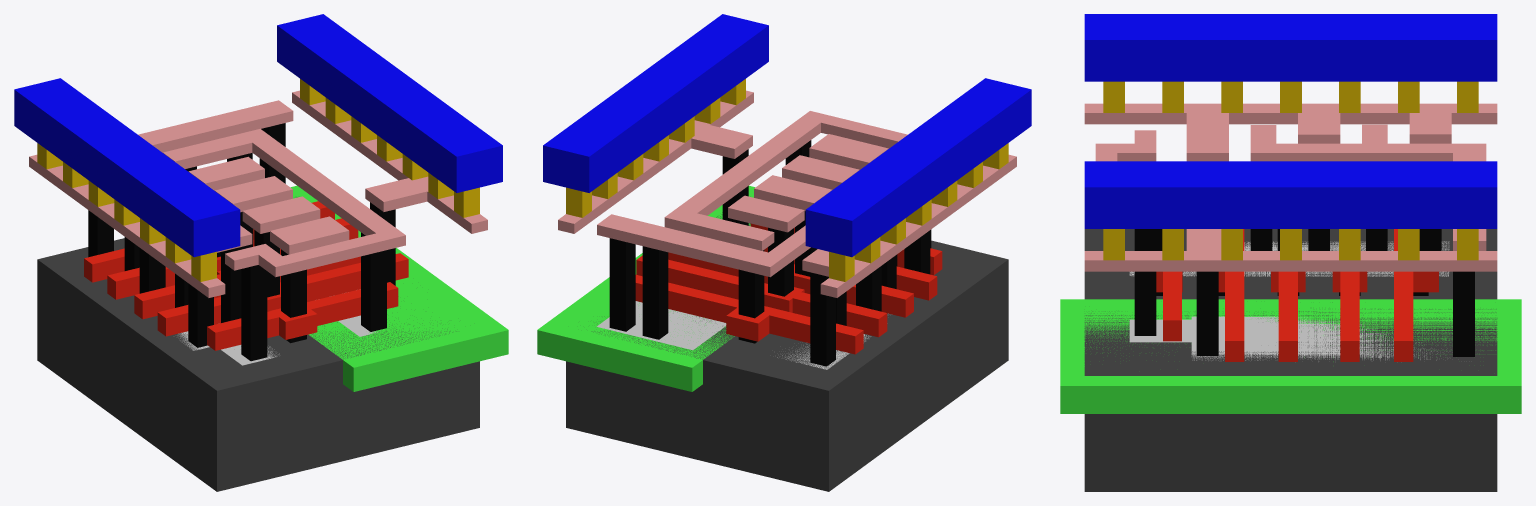
The model's file is sky130_fd_sc_hd__nor4b_1.obj.
The picture shows the model from 3 angles, left to right: view 1: azimuth 30°, elevation 25°; view 2: azimuth 150°, elevation 25°; view 3: azimuth 270°, elevation 25°; orthographic projection. The views are drawn at different scales.
Parts seen in each view (by area): view 1: subs, metal1, li, nwell, licon, poly, mcon, diff; view 2: subs, metal1, li, licon, poly, nwell, mcon, tap; view 3: metal1, subs, nwell, li, poly, mcon, licon, tap, diff.
Boxes of the visible parts, x1,y1,x2,y2 form: subs: (37, 197, 479, 491); metal1: (14, 14, 502, 257); li: (29, 90, 487, 297); nwell: (290, 185, 508, 391); licon: (88, 123, 395, 361); poly: (84, 201, 408, 350); mcon: (37, 79, 479, 281); diff: (177, 331, 279, 365); subs: (566, 212, 1008, 491); metal1: (543, 14, 1031, 257); li: (558, 90, 1016, 297); licon: (609, 140, 931, 366); poly: (635, 223, 942, 354); nwell: (537, 185, 755, 391); mcon: (566, 79, 1008, 281); tap: (596, 301, 726, 350); metal1: (1084, 14, 1497, 228); subs: (1084, 229, 1497, 491); nwell: (1060, 299, 1521, 413); li: (1084, 103, 1497, 271); poly: (1156, 229, 1438, 361); mcon: (1103, 81, 1478, 260); licon: (1134, 229, 1474, 356); tap: (1129, 316, 1437, 361); diff: (1129, 241, 1449, 276).
Size of the model in its own units: 3.2 by 2.74 by 3.6.
